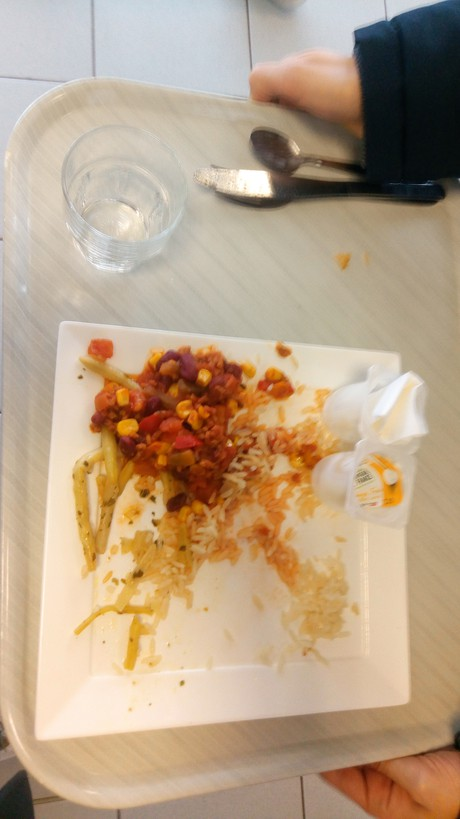cup: (53, 121, 206, 282)
cutlery: (193, 115, 452, 217)
orga: (78, 337, 315, 656)
trash: (322, 361, 431, 523)
